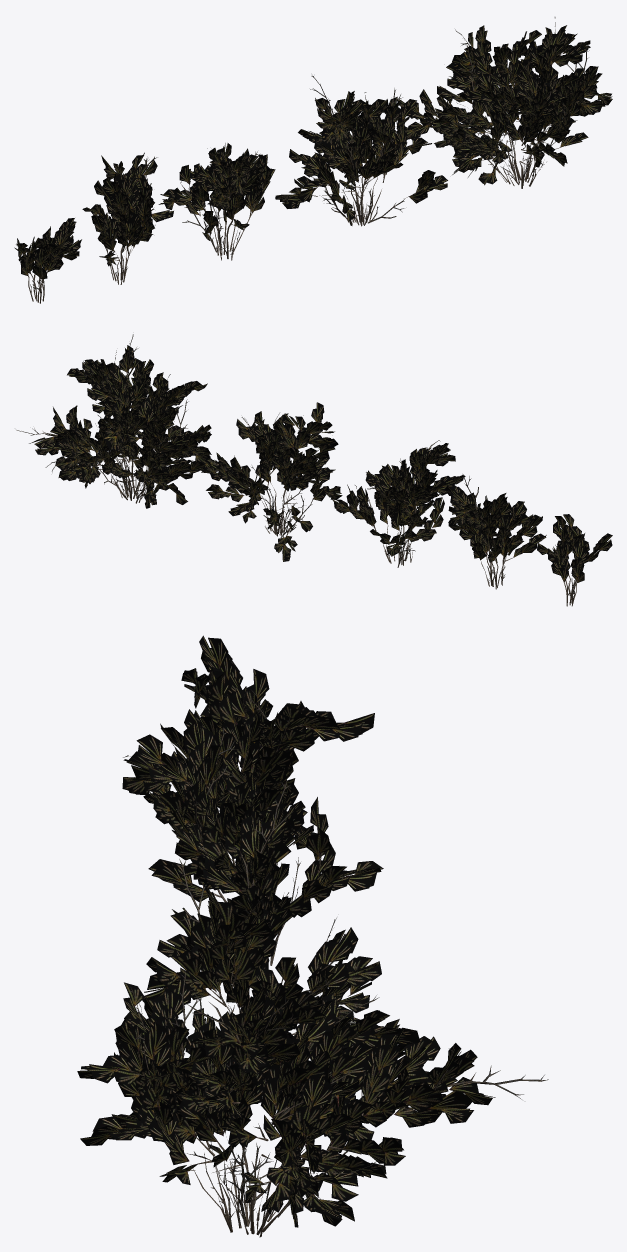
File: wild_rooibos_bush.glb
3 renders of one model, top to bottom at view 1: azimuth 30°, elevation 25°; view 2: azimuth 150°, elevation 25°; view 3: azimuth 270°, elevation 25°, orthographic. The views are drawn at different scales.
Visible parts, largest first — view 1: wild_rooibos_bush_a, wild_rooibos_bush_b, wild_rooibos_bush_c, wild_rooibos_bush_d, wild_rooibos_bush_e; view 2: wild_rooibos_bush_a, wild_rooibos_bush_b, wild_rooibos_bush_c, wild_rooibos_bush_d, wild_rooibos_bush_e; view 3: wild_rooibos_bush_a, wild_rooibos_bush_b, wild_rooibos_bush_c, wild_rooibos_bush_d, wild_rooibos_bush_e.
Boxes of the visible parts, x1,y1,x2,y2 form: wild_rooibos_bush_a: [397, 17, 612, 188]; wild_rooibos_bush_b: [275, 75, 447, 226]; wild_rooibos_bush_c: [158, 143, 275, 260]; wild_rooibos_bush_d: [82, 152, 173, 284]; wild_rooibos_bush_e: [14, 218, 81, 303]; wild_rooibos_bush_a: [16, 334, 218, 508]; wild_rooibos_bush_b: [201, 402, 342, 561]; wild_rooibos_bush_c: [332, 440, 465, 567]; wild_rooibos_bush_d: [445, 474, 546, 589]; wild_rooibos_bush_e: [537, 514, 612, 606]; wild_rooibos_bush_a: [77, 964, 548, 1237]; wild_rooibos_bush_b: [140, 780, 381, 1082]; wild_rooibos_bush_c: [122, 719, 383, 965]; wild_rooibos_bush_d: [160, 669, 374, 865]; wild_rooibos_bush_e: [181, 635, 272, 764].
Size of the model in its own units: 2.28 by 0.5413 by 0.8432.
Materials: 2 (2 with a texture image).
